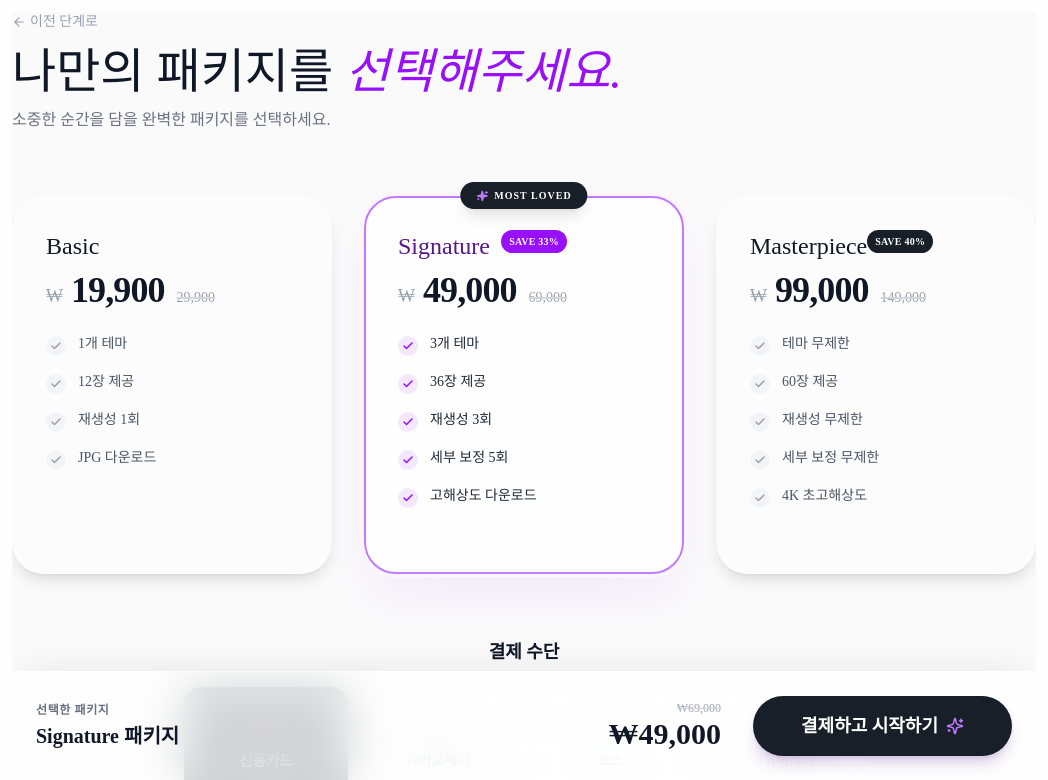
PaymentStage › Sticky Footer › should update footer summary when plan changes
Click the button with test id "plan-card-max": {"x": 809, "y": 246} [716, 196, 1036, 574]
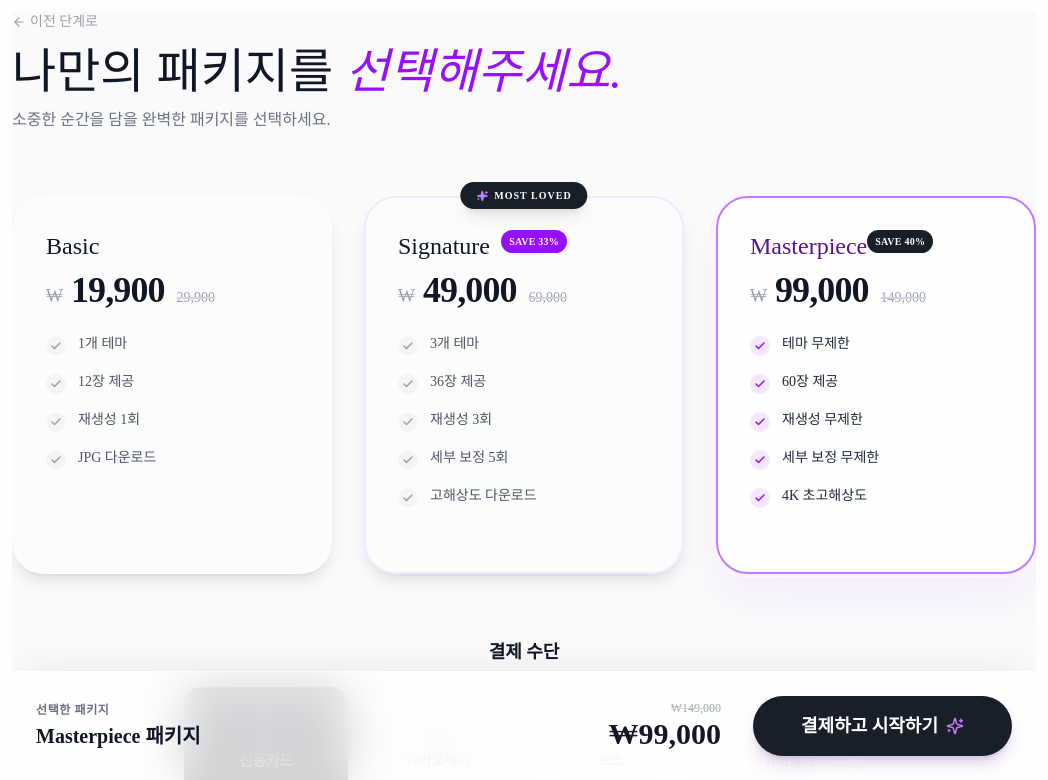
Expected: the text with test id "footer-plan-name" reads "Masterpiece 패키지", [36, 722, 201, 750]
Expected: the text with test id "footer-plan-price" reads "₩99,000", [608, 716, 721, 752]
